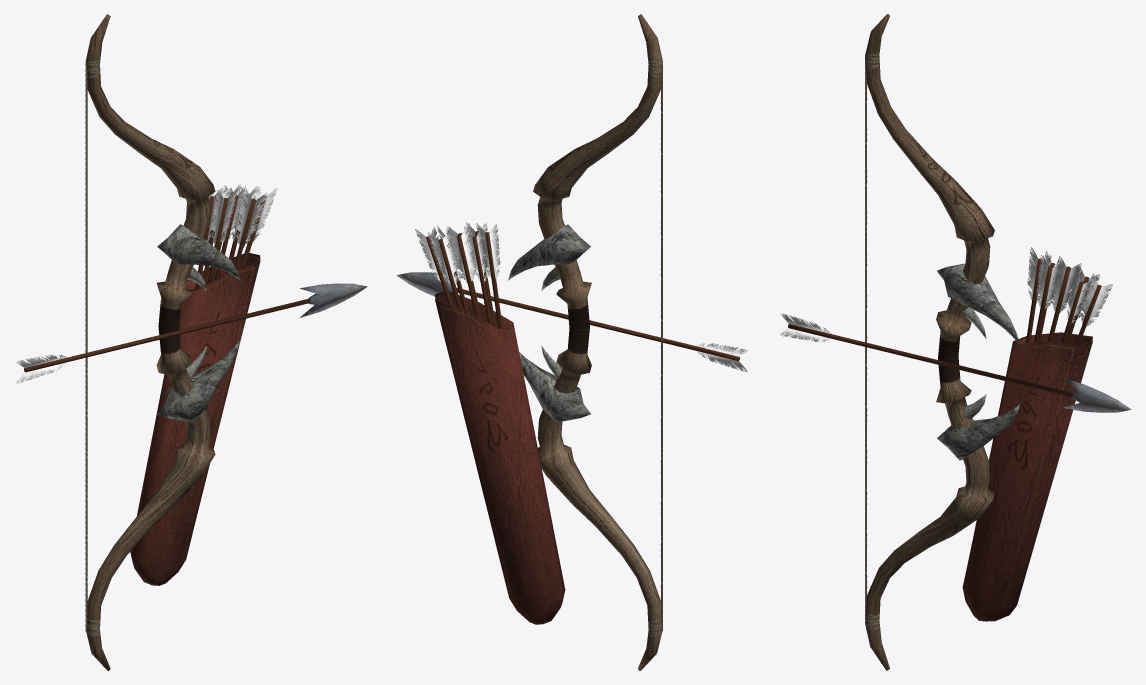
The model's file is arco.fbx.
3 views of the same model, side by side, from view 1: azimuth 30°, elevation 25°; view 2: azimuth 150°, elevation 25°; view 3: azimuth 330°, elevation 25° (orthographic).
Parts seen in each view (by area): view 1: arco.011; view 2: arco.011; view 3: arco.011.
Boxes of the visible parts, left/top/right/bottom form: arco.011: left=16, top=14, right=367, bottom=670; arco.011: left=396, top=14, right=747, bottom=670; arco.011: left=780, top=14, right=1131, bottom=670.
Bounding box in the file's own units: 866 × 1536 × 183.
